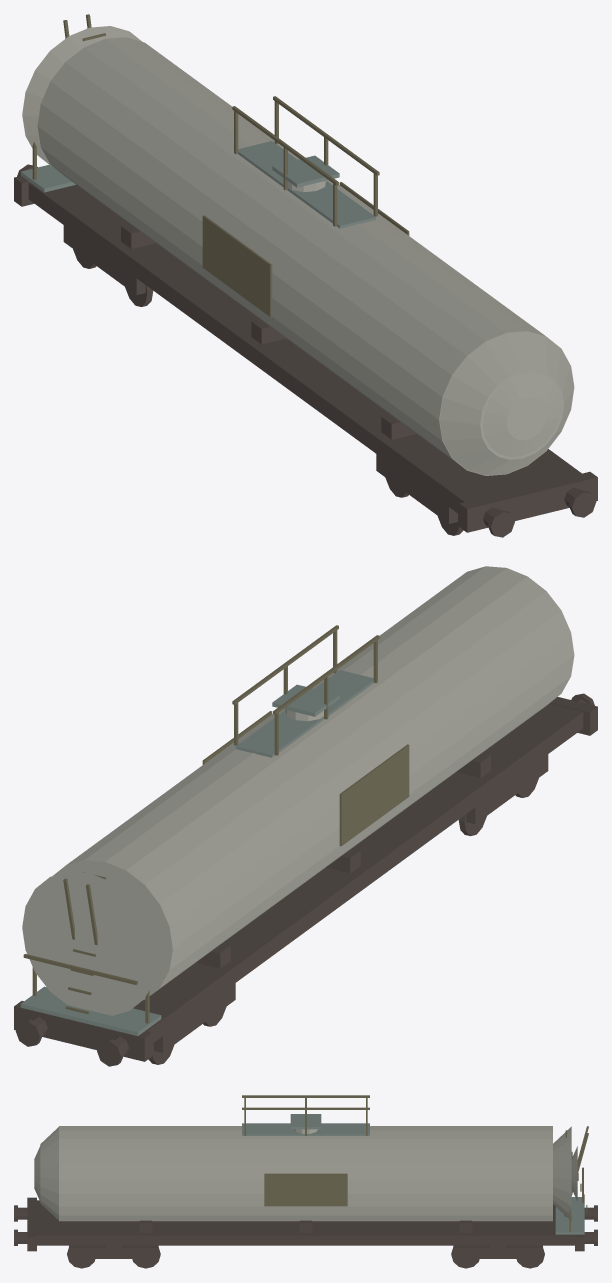
Rendered from SM_VagonCisterna_v0_Limpia_LOD0.fbx.
The picture shows the model from 3 angles, top to bottom: view 1: azimuth 30°, elevation 25°; view 2: azimuth 150°, elevation 25°; view 3: azimuth 270°, elevation 25°; orthographic projection. The views are drawn at different scales.
Parts seen in each view (by area): view 1: SM_bloques.vagon_cisterna_v0_LOD0; view 2: SM_bloques.vagon_cisterna_v0_LOD0; view 3: SM_bloques.vagon_cisterna_v0_LOD0.
Boxes of the visible parts, x1=… form: SM_bloques.vagon_cisterna_v0_LOD0: x1=14, y1=14, x2=597, y2=537; SM_bloques.vagon_cisterna_v0_LOD0: x1=14, y1=566, x2=597, y2=1066; SM_bloques.vagon_cisterna_v0_LOD0: x1=14, y1=1095, x2=597, y2=1268.
Size of the model in its own units: 3.08 by 5.33 by 18.24.
